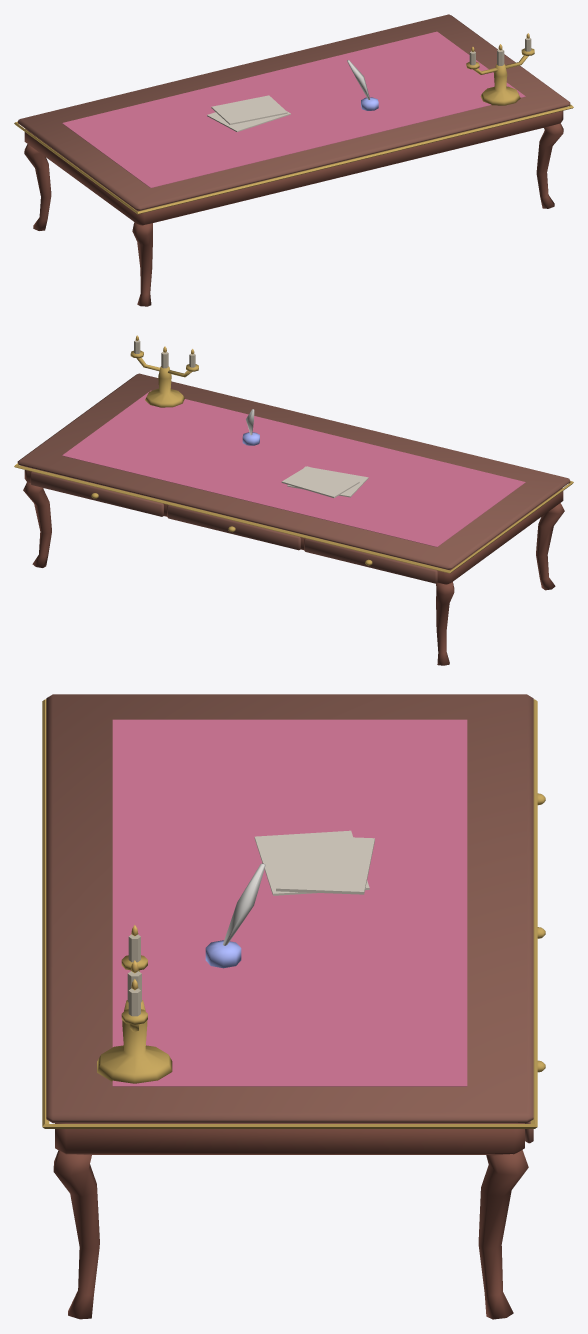
The model's file is desk_large.glb.
3 views of the same model, one above another, from view 1: azimuth 30°, elevation 25°; view 2: azimuth 150°, elevation 25°; view 3: azimuth 270°, elevation 25° (orthographic). The views are drawn at different scales.
Visible parts, largest first — view 1: desk_large; view 2: desk_large; view 3: desk_large.
Part boxes in pixels (x1,y1,x2,y2): desk_large: (14,14,573,306); desk_large: (14,335,573,665); desk_large: (42,694,545,1319).
Size of what is drawn, in the model's own units: 2.2 by 0.8 by 1.1.
